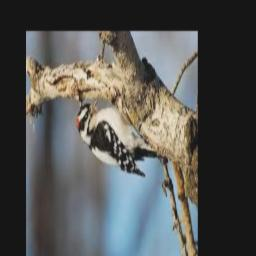Woodpecker: (77, 97, 168, 176)
